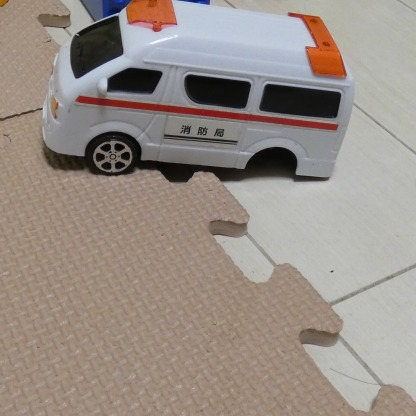car: (46, 2, 351, 178)
